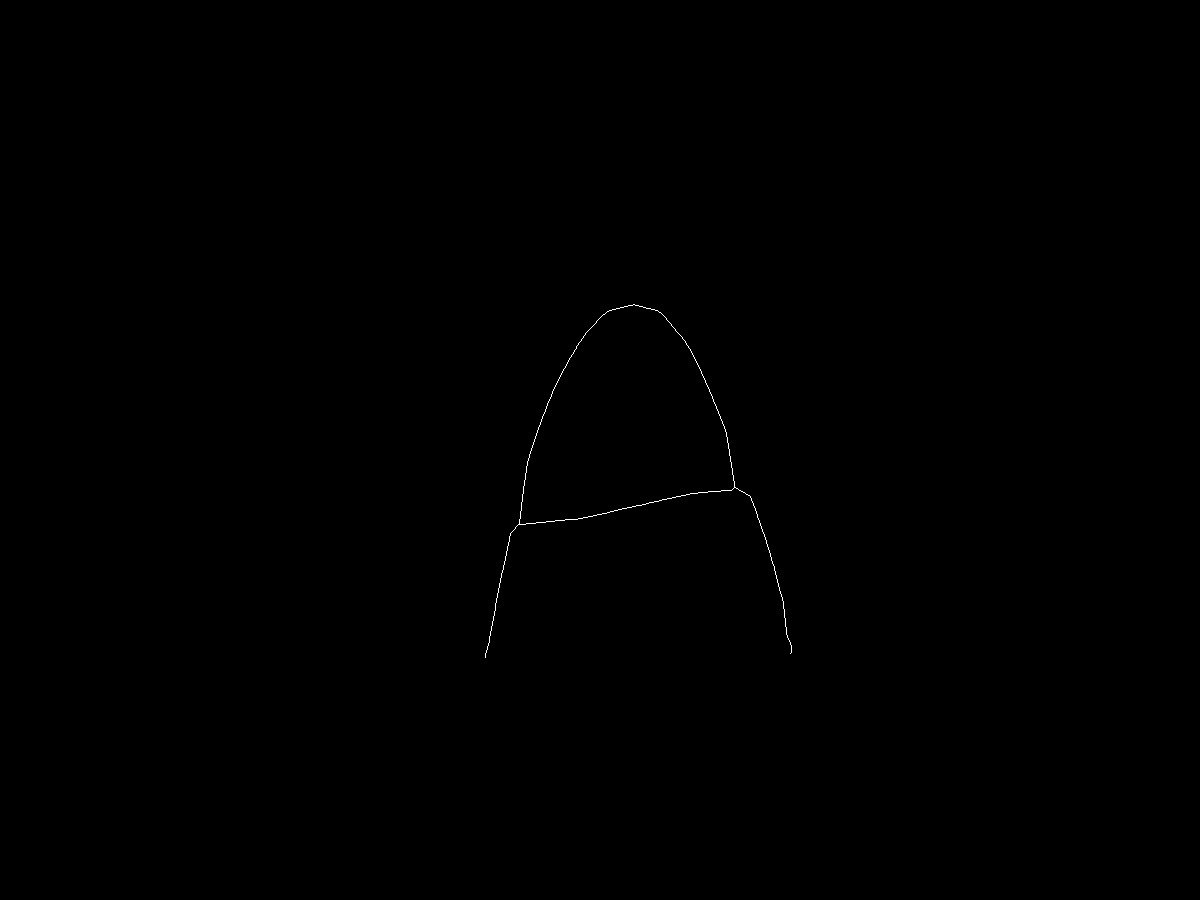dian1: (621, 302, 639, 320)
dian2: (513, 512, 534, 533)
dian3: (477, 653, 491, 667)
dian4: (736, 483, 758, 505)
dian5: (782, 645, 797, 660)
